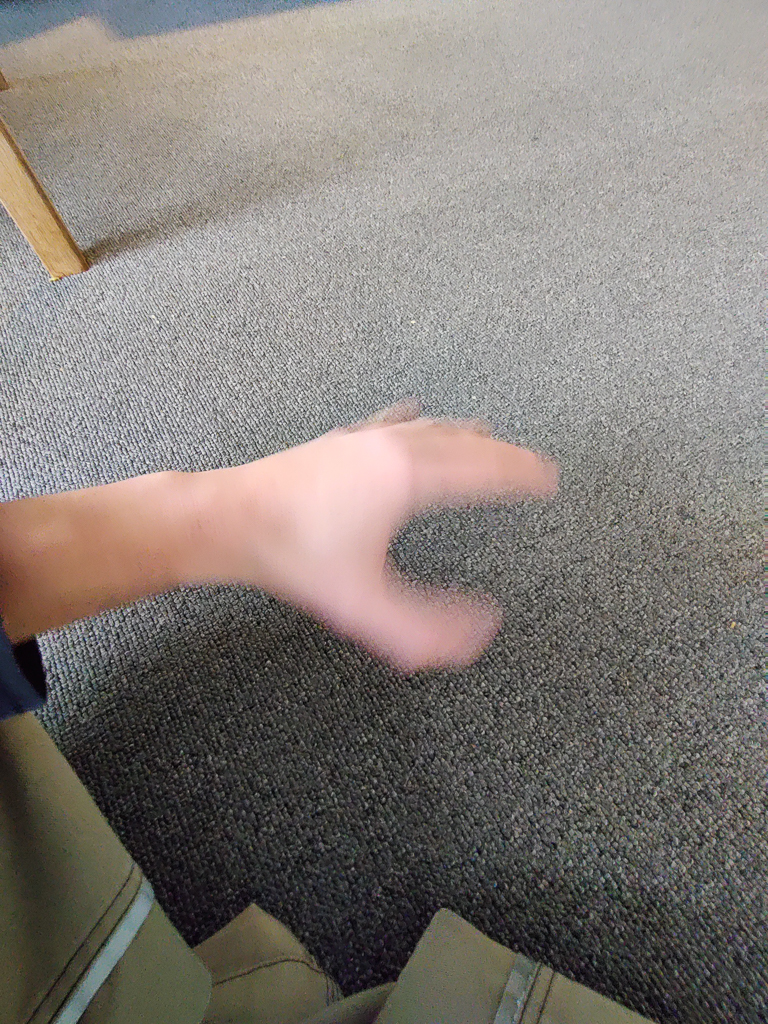Humanoid: (0, 394, 687, 1024)
